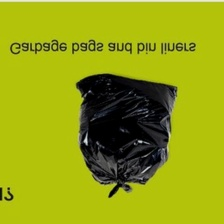plastic_bag: (68, 69, 183, 203)
